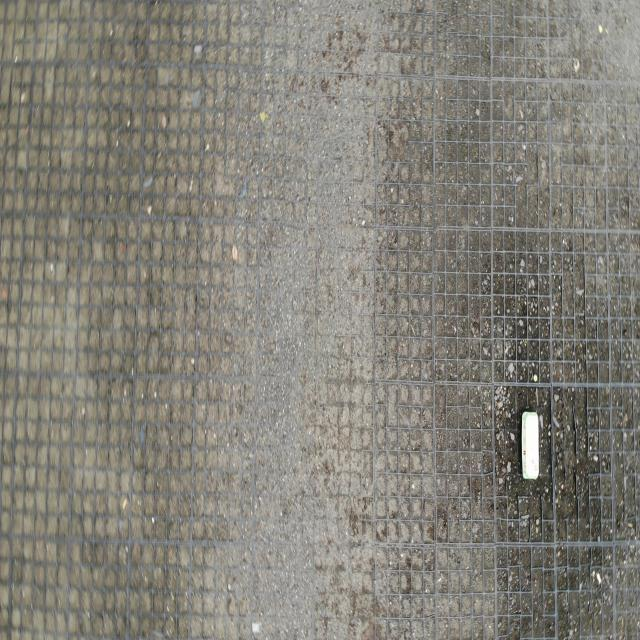rubbish: (521, 411, 539, 478)
